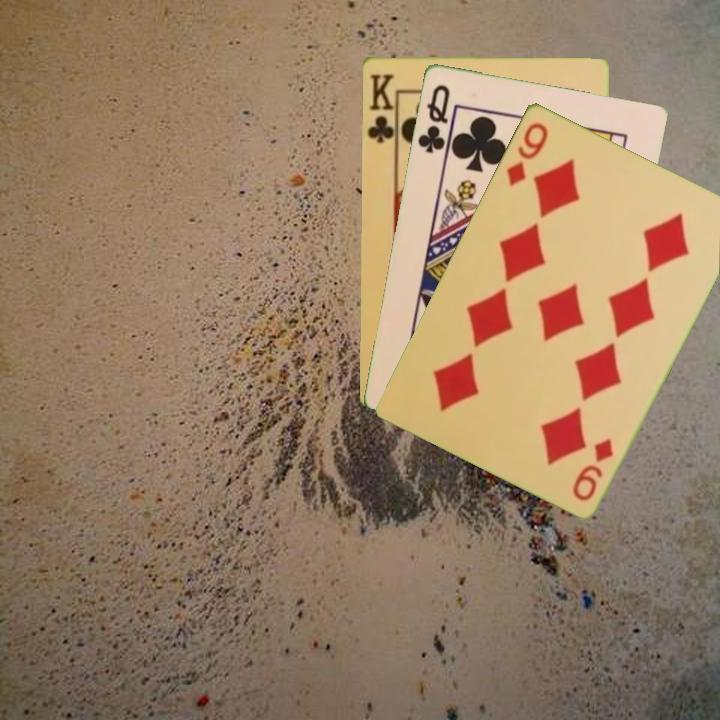9d: (502, 118, 551, 189), (568, 434, 616, 504)
Kc: (363, 70, 399, 149)
Qc: (413, 80, 453, 156)
